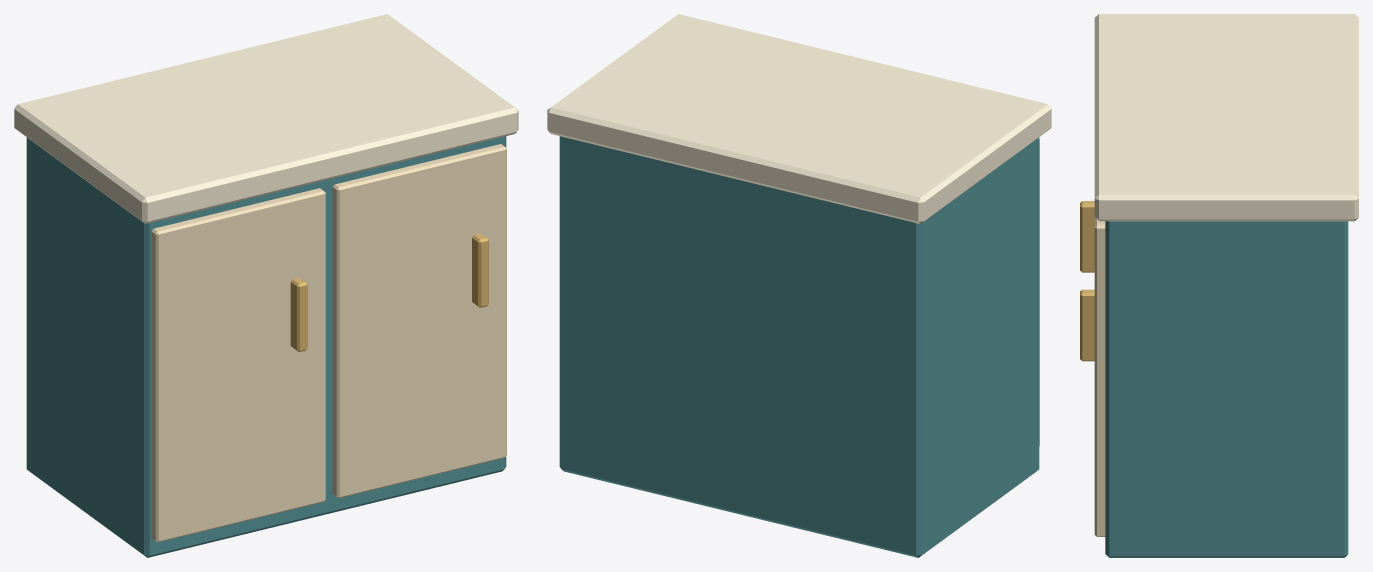
File: SM_CH_Paper_UpperCabinet.fbx
3 renders of one model, left to right at view 1: azimuth 30°, elevation 25°; view 2: azimuth 150°, elevation 25°; view 3: azimuth 270°, elevation 25°, orthographic.
Visible parts, largest first — view 1: SM_CH_Paper_UpperCabinet; view 2: SM_CH_Paper_UpperCabinet; view 3: SM_CH_Paper_UpperCabinet.
Part boxes in pixels (x1,y1,x2,y2): SM_CH_Paper_UpperCabinet: (14, 14, 518, 557); SM_CH_Paper_UpperCabinet: (547, 14, 1051, 557); SM_CH_Paper_UpperCabinet: (1080, 14, 1358, 557).
Bounding box in the file's own units: 10400 × 6650 × 9650.
